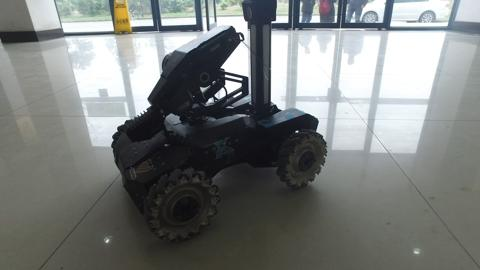car: (351, 1, 453, 26)
chariot: (109, 1, 327, 241)
